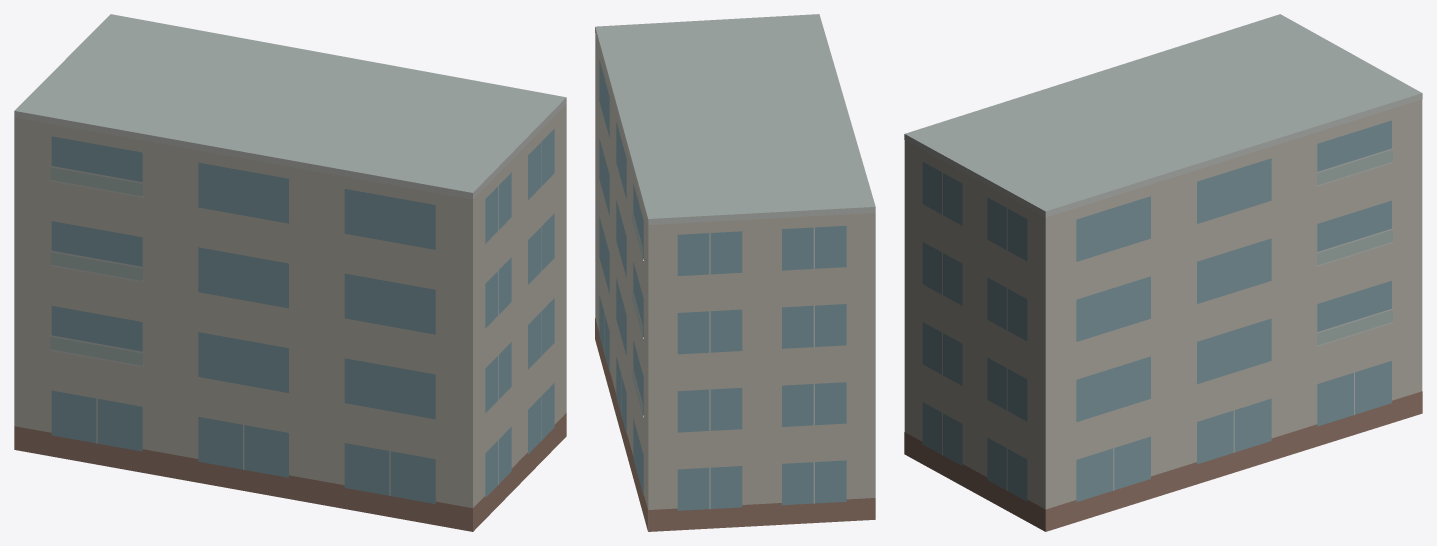
File: survey-upis-32799807.glb
The picture shows the model from 3 angles, left to right: view 1: azimuth 30°, elevation 25°; view 2: azimuth 150°, elevation 25°; view 3: azimuth 270°, elevation 25°; orthographic projection. The views are drawn at different scales.
Parts seen in each view (by area): view 1: survey-upis-32799807.tmp; view 2: survey-upis-32799807.tmp; view 3: survey-upis-32799807.tmp.
Boxes of the visible parts, x1,y1,x2,y2 form: survey-upis-32799807.tmp: [14, 14, 566, 531]; survey-upis-32799807.tmp: [595, 14, 875, 531]; survey-upis-32799807.tmp: [904, 14, 1422, 531].
Size of the model in its own units: 16.79 by 12.7 by 18.61.
